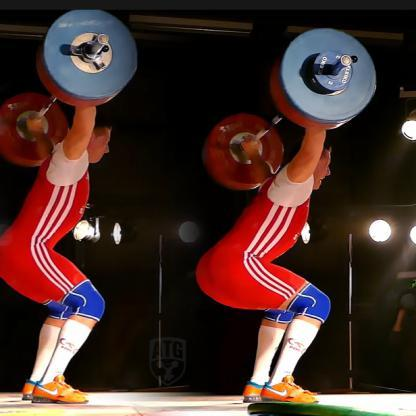Barbell: (96, 31, 114, 49), (339, 54, 354, 70)
